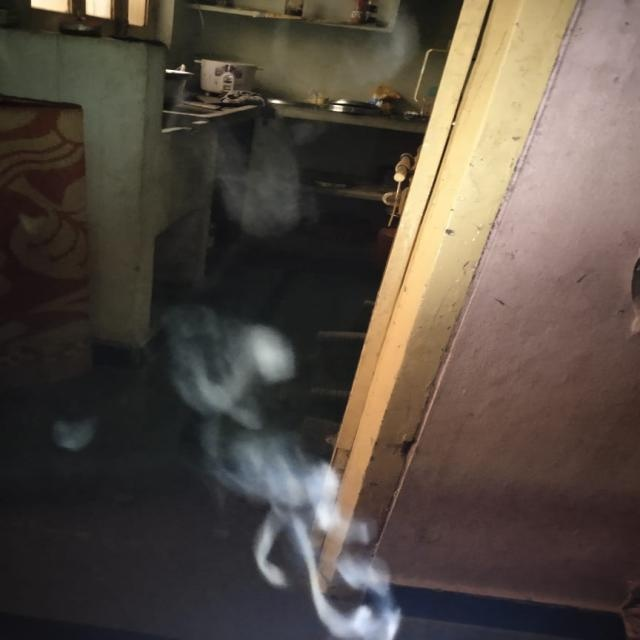smoke: (208, 327, 402, 640)
